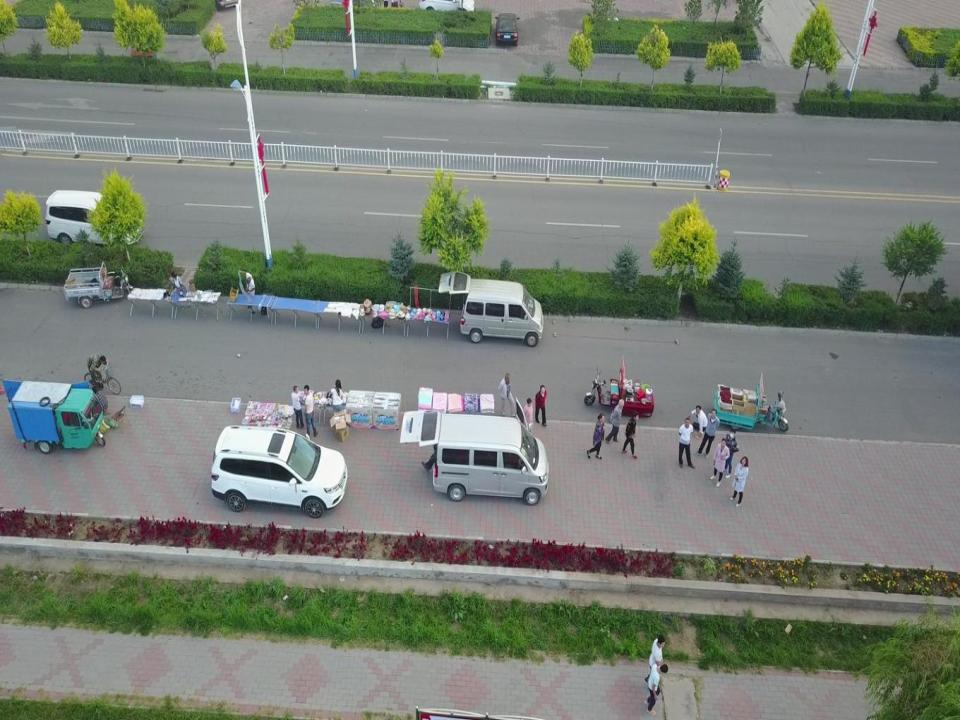car: (211, 426, 347, 518), (44, 189, 144, 249), (420, 0, 476, 18), (494, 13, 520, 45)
van: (400, 395, 549, 506), (438, 270, 543, 346)
